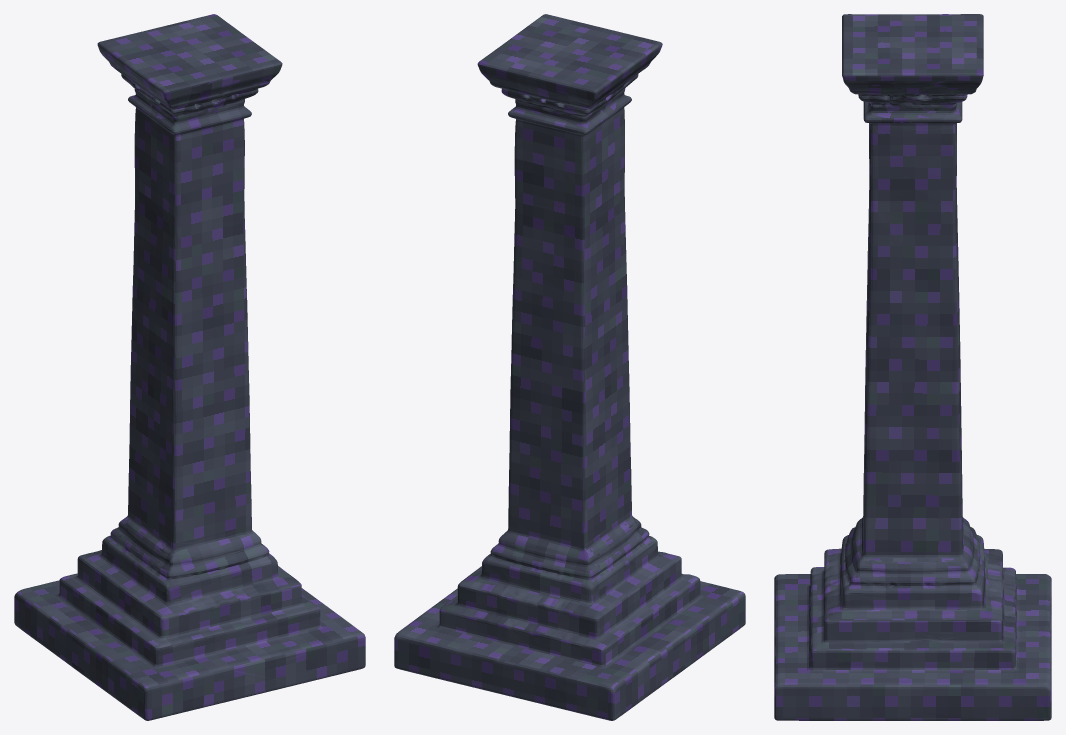
File: solitude-pillar-8.collider.glb
3 views of the same model, side by side, from view 1: azimuth 30°, elevation 25°; view 2: azimuth 150°, elevation 25°; view 3: azimuth 270°, elevation 25° (orthographic). The views are drawn at different scales.
Parts seen in each view (by area): view 1: temp_mesh.ply; view 2: temp_mesh.ply; view 3: temp_mesh.ply.
Boxes of the visible parts, x1=… form: temp_mesh.ply: x1=14, y1=14, x2=365, y2=720; temp_mesh.ply: x1=394, y1=14, x2=745, y2=720; temp_mesh.ply: x1=774, y1=14, x2=1051, y2=720.
Size of the model in its own units: 0.7672 by 1.97 by 0.7982.
1 material, 1 textured.
